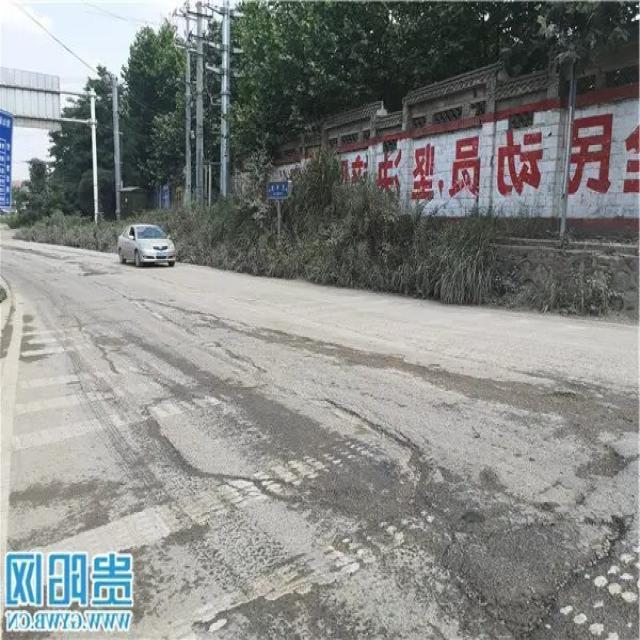pothole: (146, 381, 420, 509), (441, 514, 630, 629)
